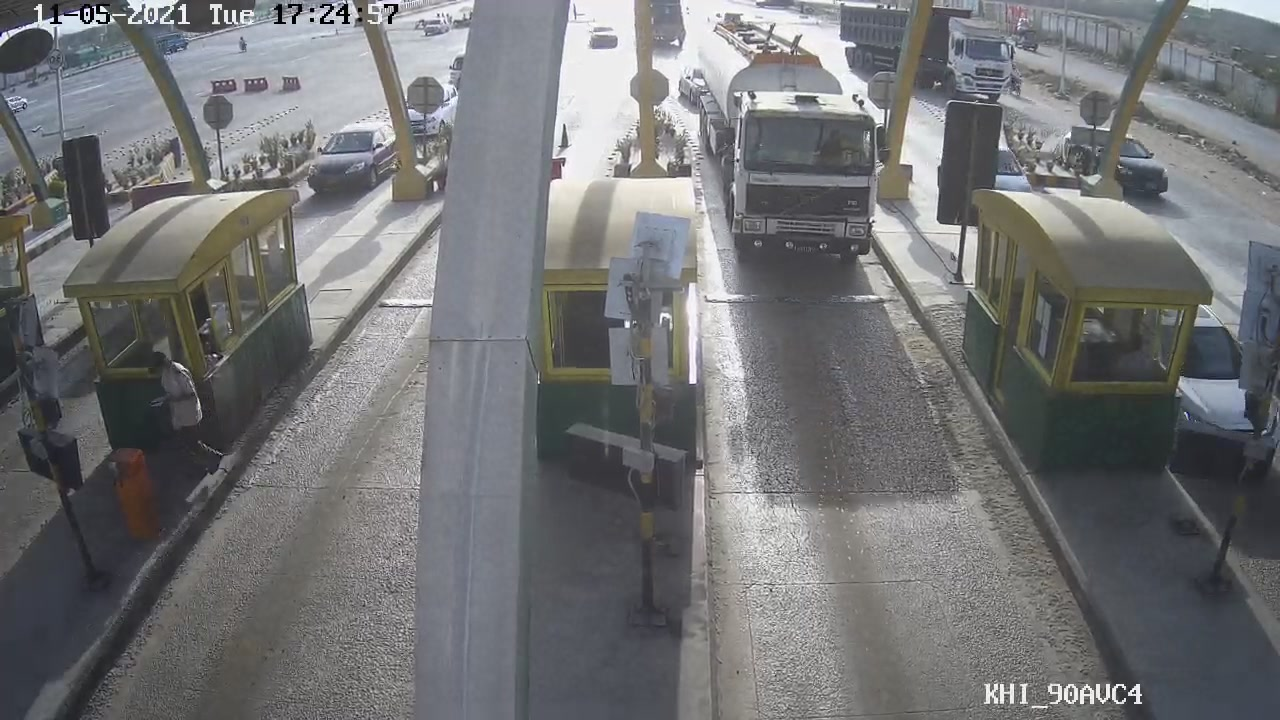F6: (689, 10, 883, 268)
